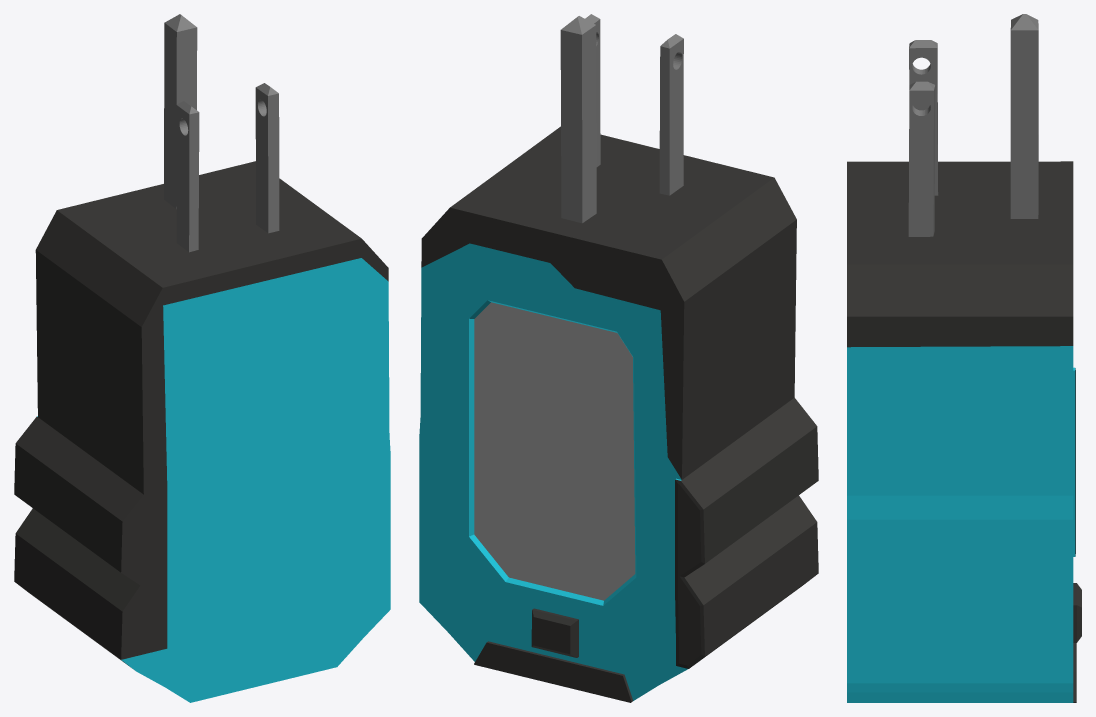
Rendered from Outlet_Tester_3D_Asset.fbx.
3 renders of one model, left to right at view 1: azimuth 30°, elevation 25°; view 2: azimuth 150°, elevation 25°; view 3: azimuth 270°, elevation 25°, orthographic. The views are drawn at different scales.
Visible parts, largest first — view 1: Outlet_Tester; view 2: Outlet_Tester; view 3: Outlet_Tester.
Boxes of the visible parts, x1=… form: Outlet_Tester: x1=14, y1=14, x2=390, y2=702; Outlet_Tester: x1=419, y1=14, x2=818, y2=702; Outlet_Tester: x1=847, y1=14, x2=1081, y2=702.
Size of the model in its own units: 194 by 420 by 137.
